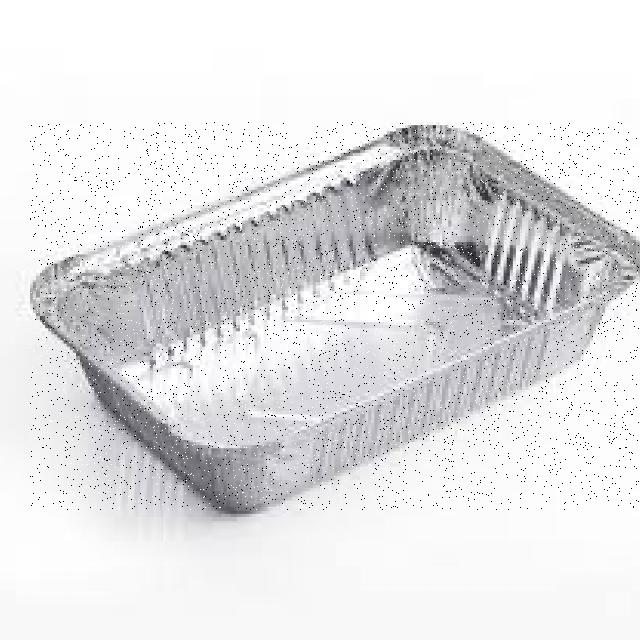metal: (31, 123, 639, 510)
